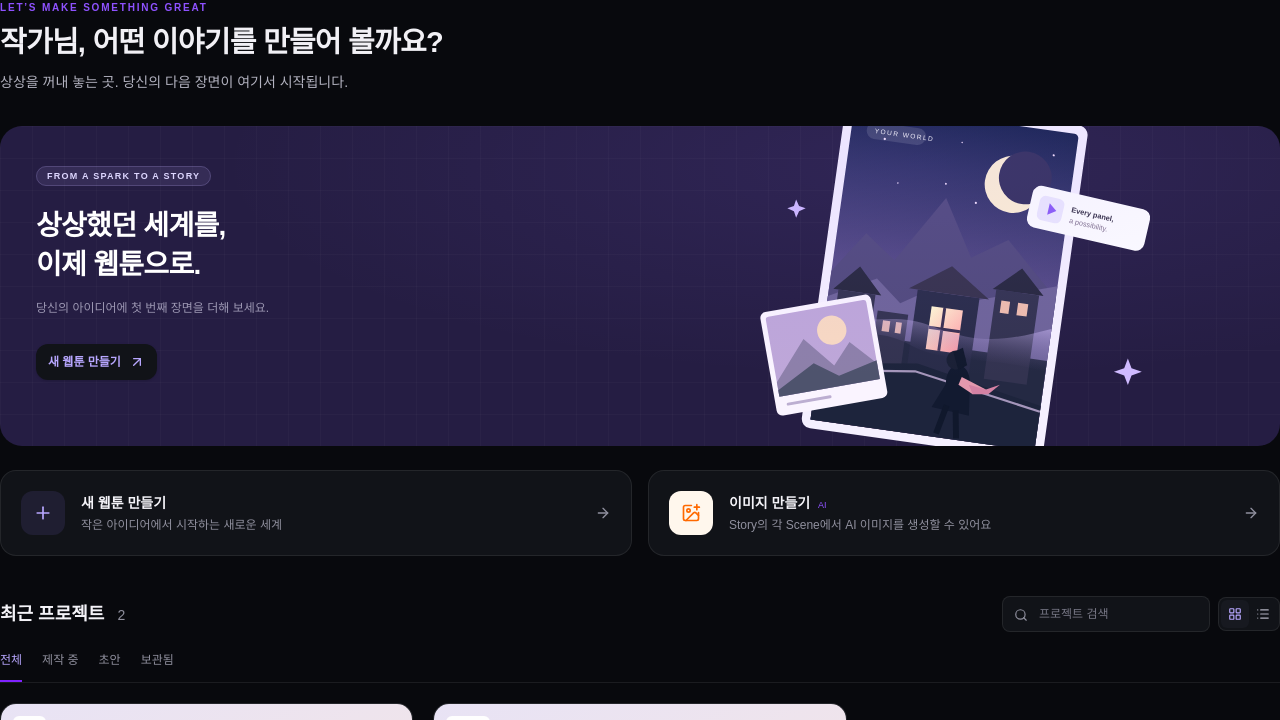
Test case: filters persisted projects by title and status
Type "여름" into the field labelled "프로젝트 검색". click: (1106, 614)
box: [1002, 596, 1210, 632]
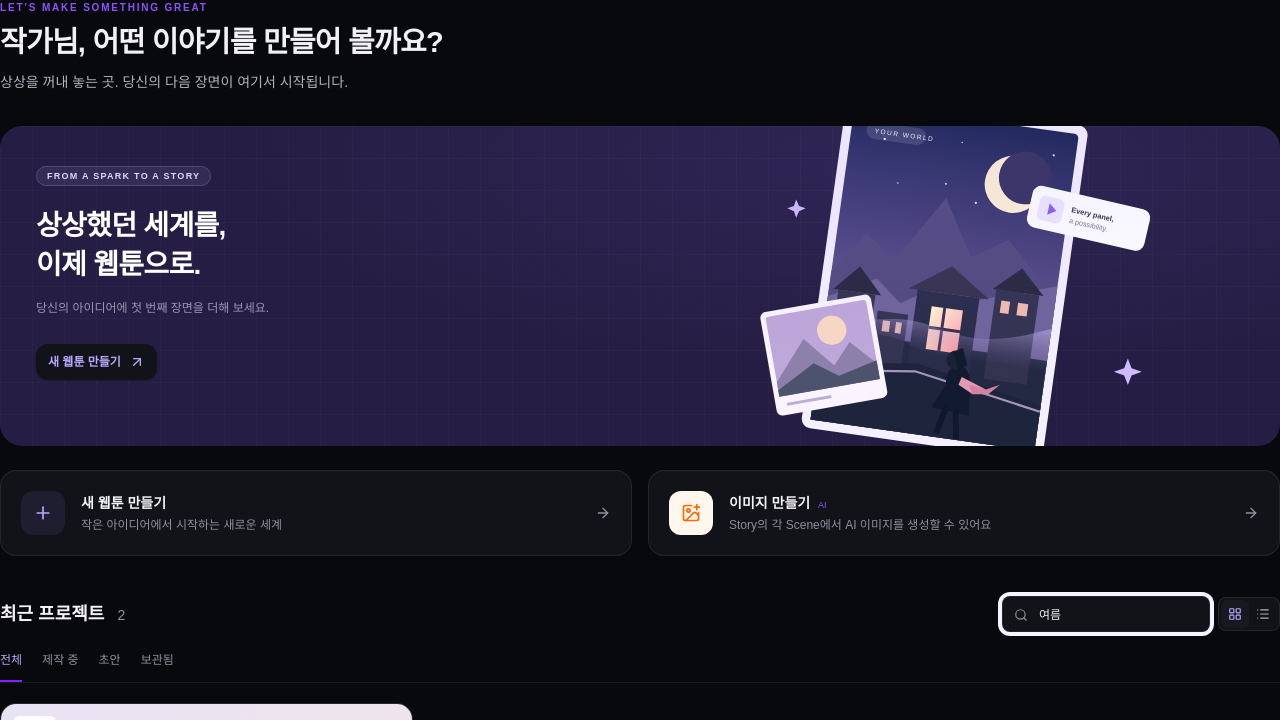
Click the button "초안". click: (110, 667)
box: [99, 652, 121, 682]
(page scrolled)
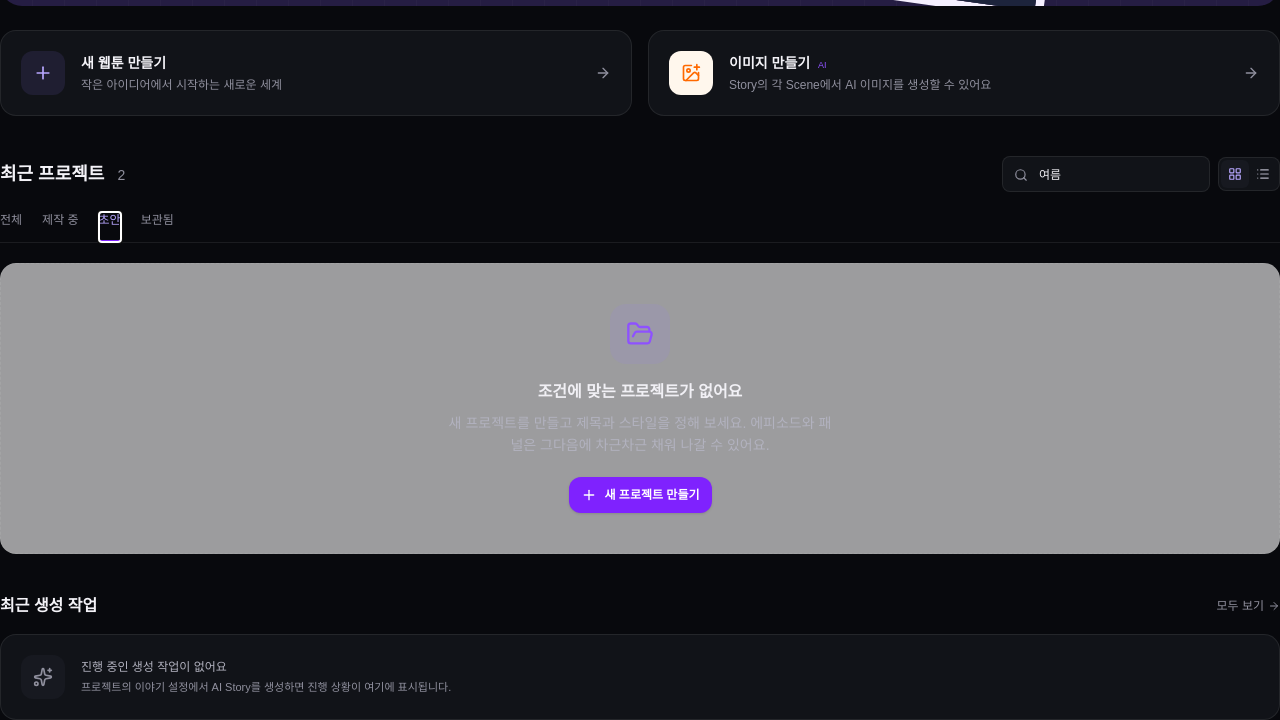
Now the heading "조건에 맞는 프로젝트가 없어요" is shown, box [538, 380, 742, 404]
